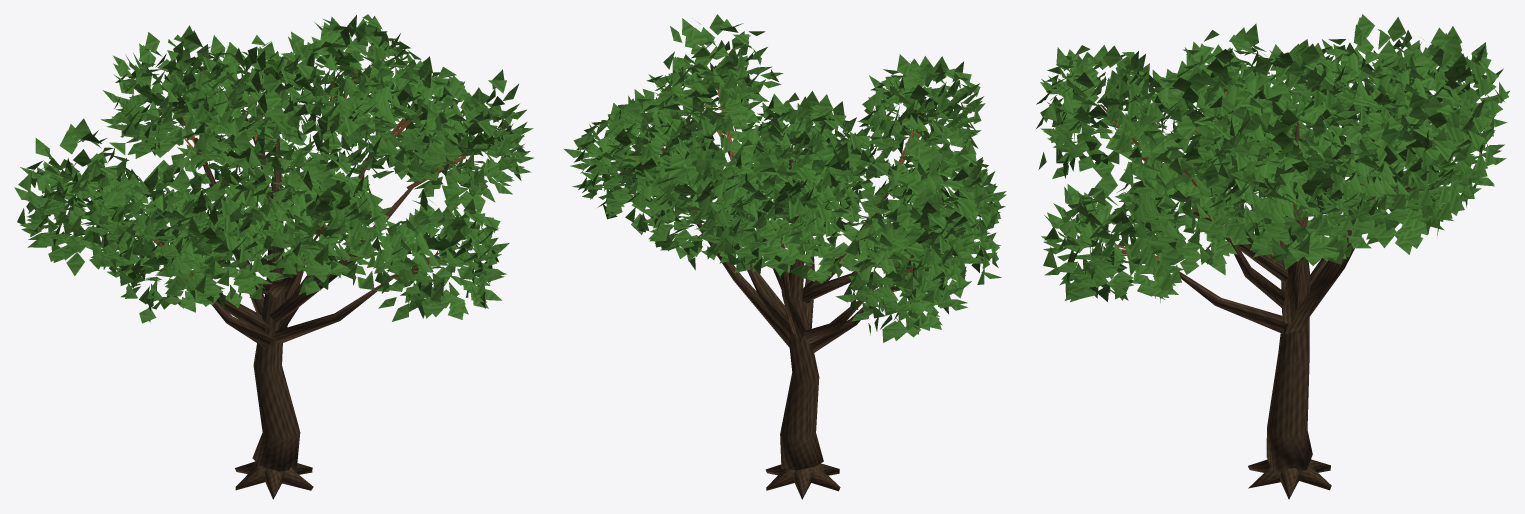
Rendered from orchard_tree.glb.
3 renders of one model, left to right at view 1: azimuth 30°, elevation 25°; view 2: azimuth 150°, elevation 25°; view 3: azimuth 270°, elevation 25°, orthographic. The views are drawn at different scales.
Visible parts, largest first — view 1: orchard_tree_Foliage.001, orchard_tree_Branches.001; view 2: orchard_tree_Foliage.001, orchard_tree_Branches.001; view 3: orchard_tree_Foliage.001, orchard_tree_Branches.001.
Part boxes in pixels (box(x1,y1,x2,y2)): orchard_tree_Foliage.001: box(14, 14, 533, 323); orchard_tree_Branches.001: box(85, 70, 465, 499); orchard_tree_Foliage.001: box(563, 14, 1006, 342); orchard_tree_Branches.001: box(633, 72, 941, 499); orchard_tree_Foliage.001: box(1036, 14, 1509, 302); orchard_tree_Branches.001: box(1100, 91, 1411, 499).
Bounding box in the file's own units: 5.97 × 5.72 × 5.63.
Materials: 2 (2 with a texture image).
